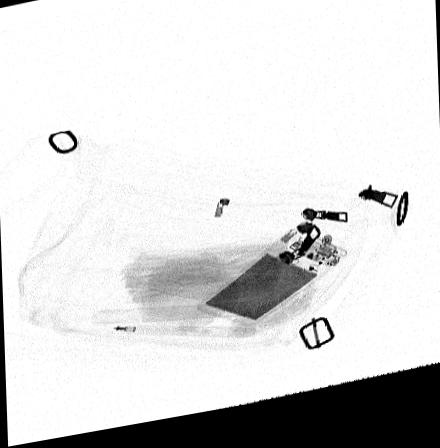Powerbank: (195, 238, 350, 338)
